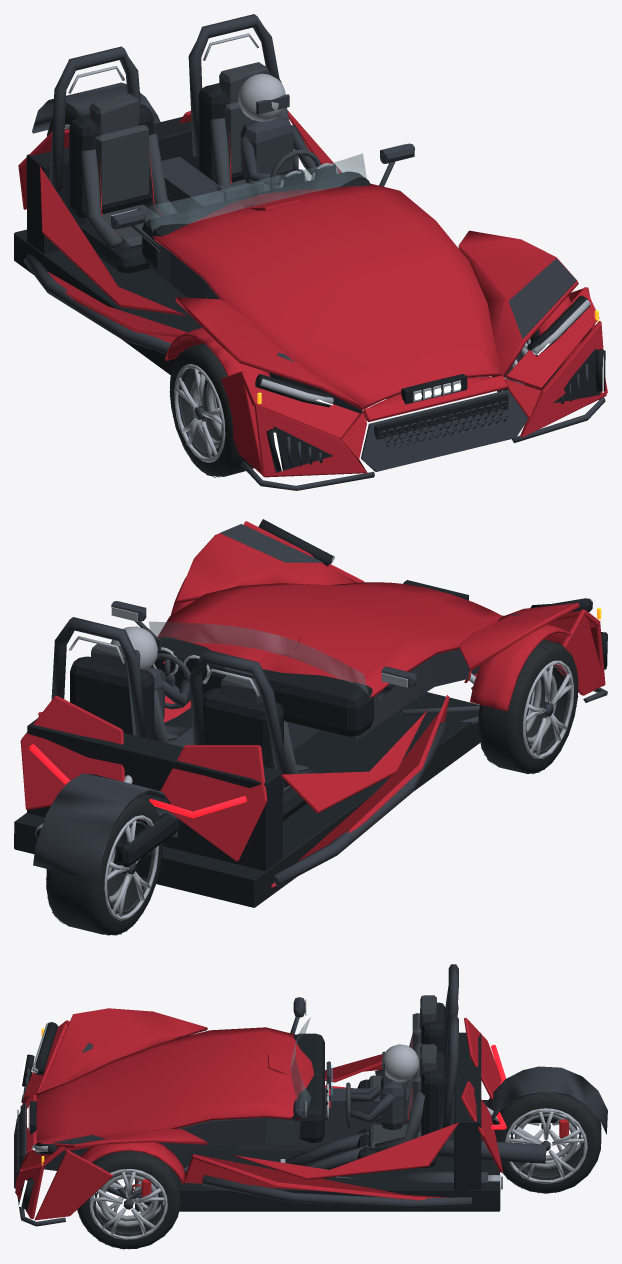
File: slingshot-r-lod.glb
3 views of the same model, one above another, from view 1: azimuth 30°, elevation 25°; view 2: azimuth 150°, elevation 25°; view 3: azimuth 270°, elevation 25° (orthographic). The views are drawn at different scales.
Visible parts, largest first — view 1: Body_BodyPaint, Body_Graphite, Body_TexturedTrim, Body_Upholstery, Windscreen, Tire_0, Rider_Graphite, Body_MachinedAlloy, Rim_0_-1_WheelFinish, Helmet; view 2: Body_BodyPaint, Body_TexturedTrim, Body_Graphite, Tire_0, Tire_2, Windscreen, Body_Upholstery, Rim_0_-1_WheelFinish, Rim_2_-1_WheelFinish, Body_MachinedAlloy, Rider_Graphite, Body_TailLamp (+2 smaller); view 3: Body_BodyPaint, Body_TexturedTrim, Body_Graphite, Tire_2, Tire_1, Rider_Graphite, Body_Upholstery, Rim_2_1_WheelFinish, Rim_1_1_WheelFinish, Helmet, Wheel_1_BrakeSteel, Wheel_2_BrakeSteel (+6 smaller).
Part boxes in pixels (left/top/right/bottom): Body_BodyPaint: left=18, top=110, right=607, bottom=477; Body_Graphite: left=23, top=14, right=605, bottom=490; Body_TexturedTrim: left=14, top=72, right=605, bottom=472; Body_Upholstery: left=80, top=62, right=294, bottom=249; Windscreen: left=148, top=153, right=366, bottom=232; Tire_0: left=169, top=343, right=253, bottom=476; Rider_Graphite: left=240, top=94, right=316, bottom=184; Body_MachinedAlloy: left=68, top=33, right=590, bottom=405; Rim_0_-1_WheelFinish: left=174, top=364, right=225, bottom=462; Helmet: left=238, top=73, right=285, bottom=121; Body_BodyPaint: left=20, top=521, right=605, bottom=887; Body_TexturedTrim: left=14, top=519, right=607, bottom=907; Body_Graphite: left=33, top=524, right=607, bottom=886; Tire_0: left=478, top=639, right=578, bottom=773; Tire_2: left=46, top=796, right=162, bottom=934; Windscreen: left=149, top=621, right=368, bottom=694; Body_Upholstery: left=91, top=643, right=315, bottom=793; Rim_0_-1_WheelFinish: left=523, top=660, right=573, bottom=758; Rim_2_-1_WheelFinish: left=104, top=815, right=158, bottom=920; Body_MachinedAlloy: left=69, top=519, right=592, bottom=783; Rider_Graphite: left=147, top=637, right=191, bottom=736; Body_TailLamp: left=29, top=744, right=246, bottom=818; Body_BodyPaint: left=15, top=1008, right=502, bottom=1220; Body_TexturedTrim: left=20, top=1002, right=558, bottom=1211; Body_Graphite: left=14, top=964, right=607, bottom=1226; Tire_2: left=492, top=1092, right=601, bottom=1193; Tire_1: left=77, top=1151, right=180, bottom=1249; Rider_Graphite: left=287, top=1051, right=405, bottom=1169; Body_Upholstery: left=368, top=995, right=437, bottom=1152; Rim_2_1_WheelFinish: left=505, top=1108, right=587, bottom=1183; Rim_1_1_WheelFinish: left=89, top=1169, right=167, bottom=1239; Helmet: left=382, top=1044, right=419, bottom=1081; Wheel_1_BrakeSteel: left=98, top=1172, right=158, bottom=1226; Wheel_2_BrakeSteel: left=514, top=1111, right=577, bottom=1168.
Bounding box in the file's own units: 2.01 × 1.32 × 3.79.
